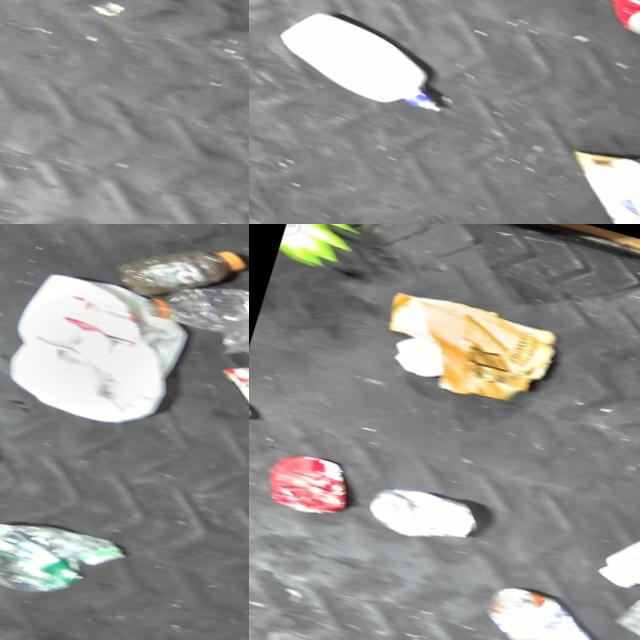can: (363, 476, 487, 552), (473, 578, 615, 640), (260, 445, 360, 521), (602, 0, 640, 45)
milk_jug: (0, 260, 197, 436), (271, 2, 464, 118)
plastic_bottle: (141, 262, 249, 349)
